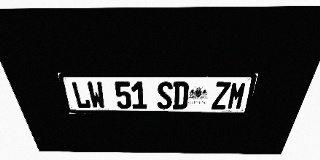1: (130, 82, 147, 109)
5: (114, 82, 132, 109)
D: (172, 82, 189, 109)
L: (70, 81, 92, 109)
M: (226, 82, 248, 110)
S: (157, 82, 173, 109)
W: (86, 81, 106, 109)
Z: (211, 82, 231, 109)
